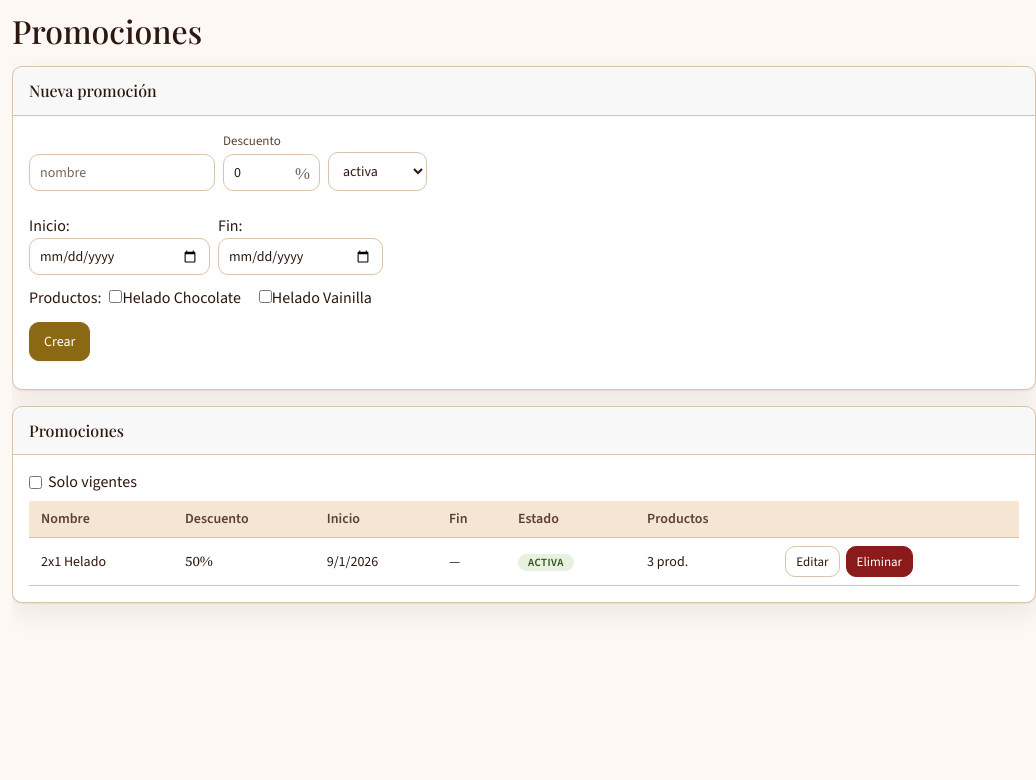
it: PromocionesPage › editar carga datos al formulario
Expected: the text "2x1 Helado" is shown, [29,537,173,586]
Click the button "Editar" at (812, 562), box [785,546,840,577]
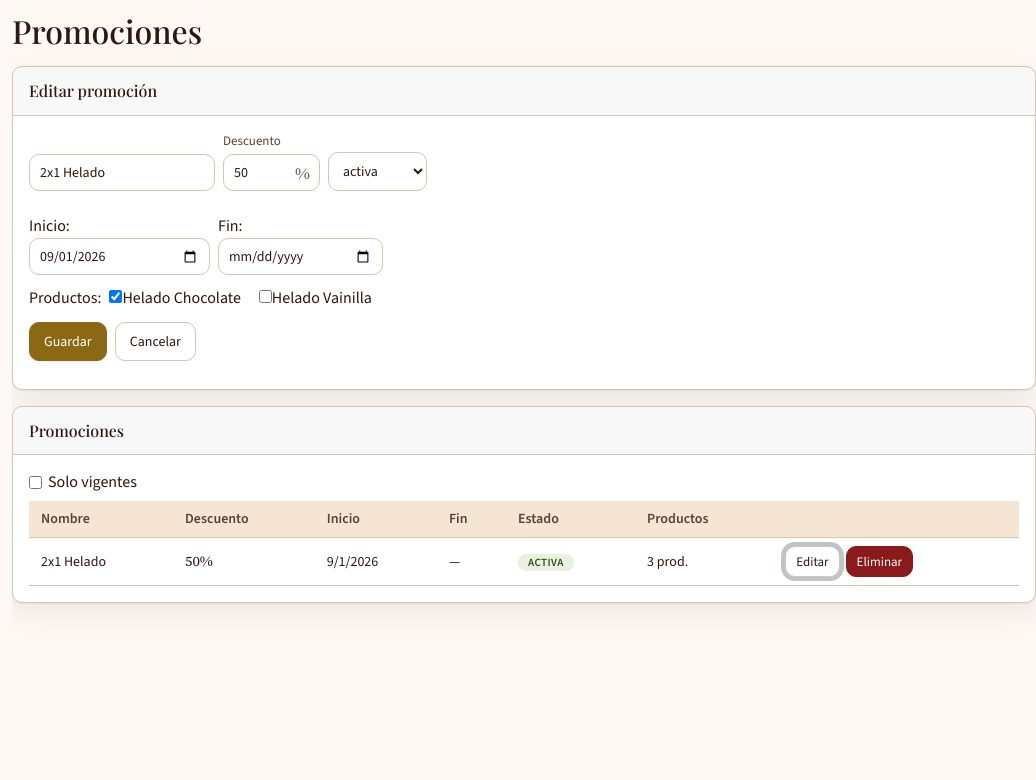
Now the field showing "2x1 Helado" is shown, box [29,154,215,191]
